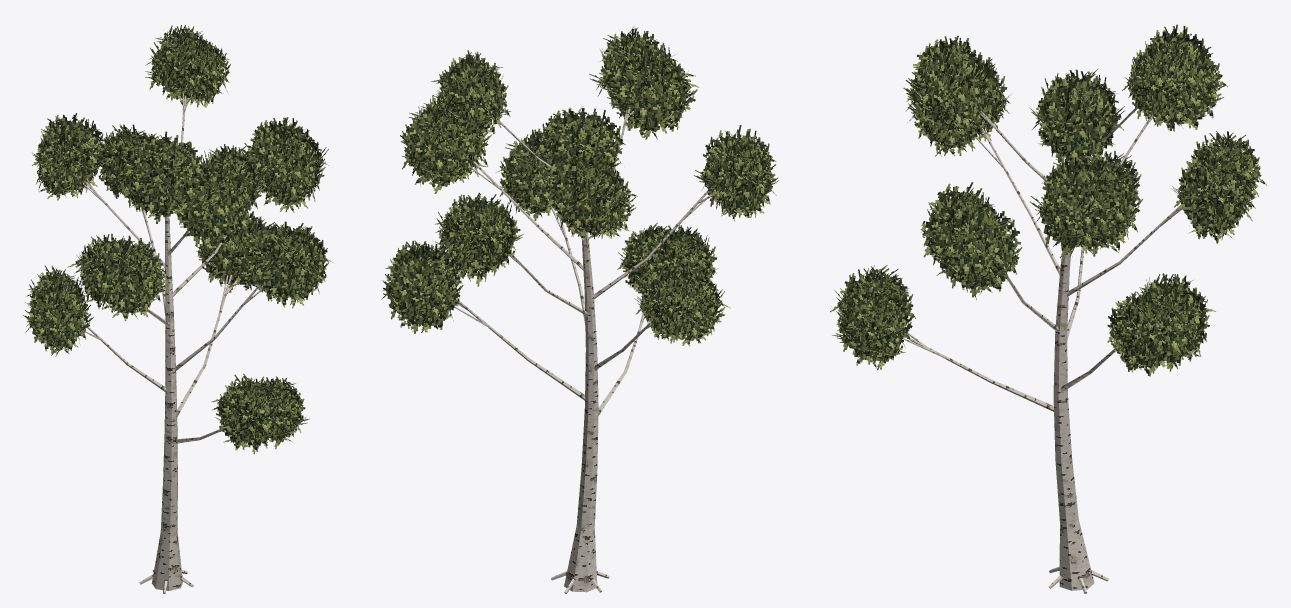
The model's file is TREE_Birch_Green_A.glb.
3 renders of one model, left to right at view 1: azimuth 30°, elevation 25°; view 2: azimuth 150°, elevation 25°; view 3: azimuth 270°, elevation 25°, orthographic. The views are drawn at different scales.
Visible parts, largest first — view 1: TREE_Birch_Green_A__Card, TREE_Birch_Green_A__Bark; view 2: TREE_Birch_Green_A__Card, TREE_Birch_Green_A__Bark; view 3: TREE_Birch_Green_A__Card, TREE_Birch_Green_A__Bark.
Boxes of the visible parts, <box> form: TREE_Birch_Green_A__Card: <box>23,25,333,454</box>; TREE_Birch_Green_A__Bark: <box>82,93,265,593</box>; TREE_Birch_Green_A__Card: <box>381,26,778,346</box>; TREE_Birch_Green_A__Bark: <box>454,107,716,593</box>; TREE_Birch_Green_A__Card: <box>830,24,1266,376</box>; TREE_Birch_Green_A__Bark: <box>902,104,1183,593</box>.
Bounding box in the file's own units: 7.46 × 11.68 × 8.22.
Materials: 3 (3 with a texture image).
